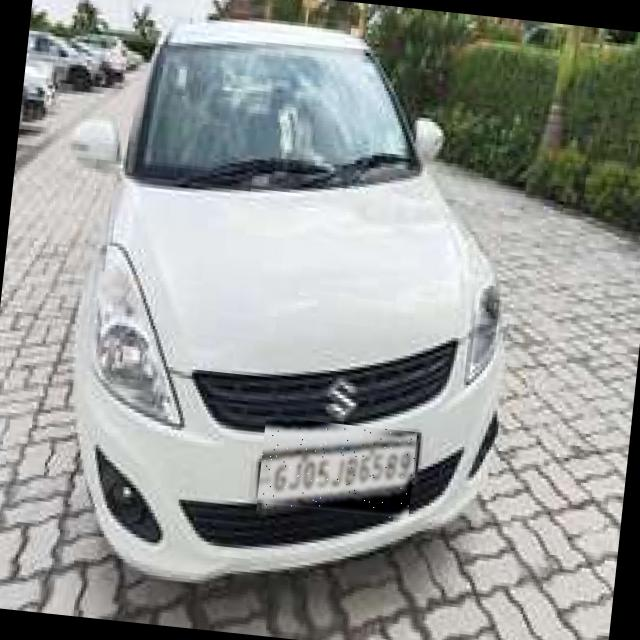Plate: (258, 418, 418, 521)
